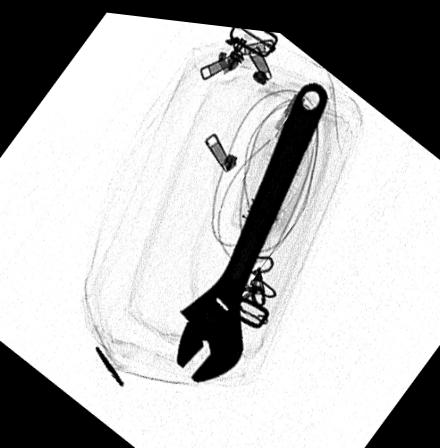Wrench: (175, 71, 332, 377)
